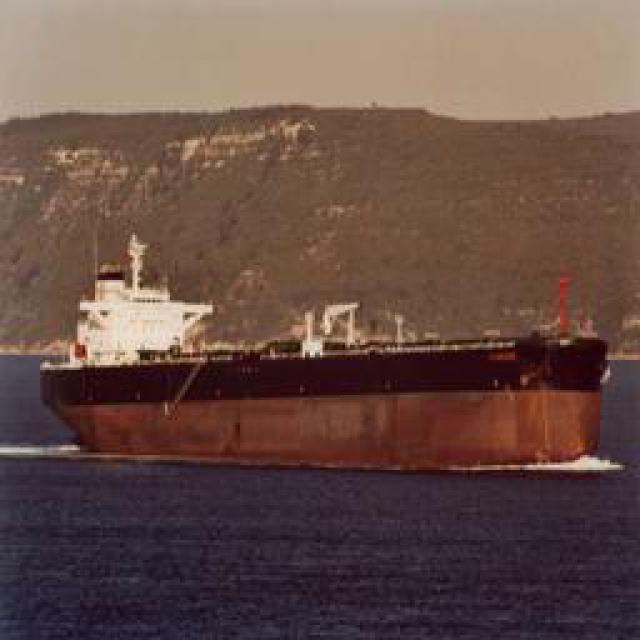Ship: (23, 306, 621, 474)
